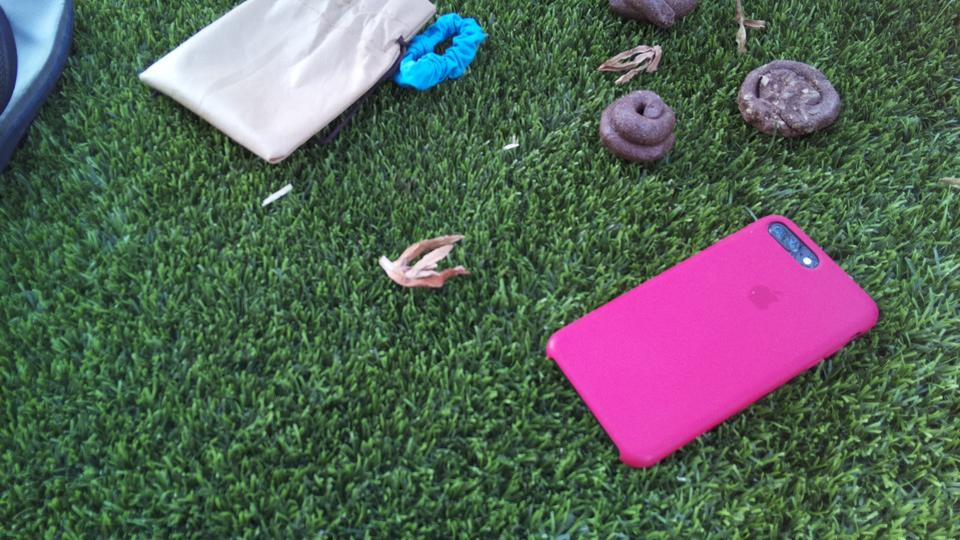poop: (732, 57, 846, 142), (594, 87, 682, 168)
